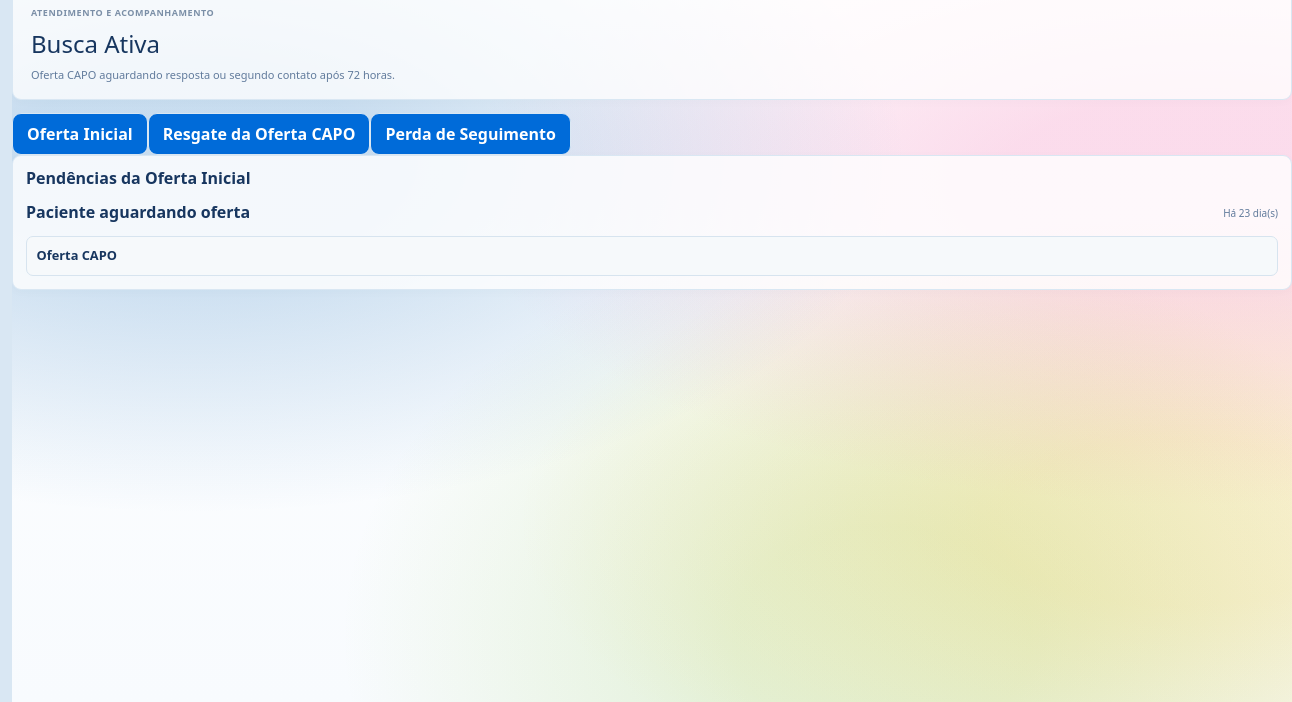
Test: após 72 horas, salvar sem_resposta transfere para Resgate por confirmação do banco
Click the button "Oferta CAPO": (77, 255) [26,236,1278,276]
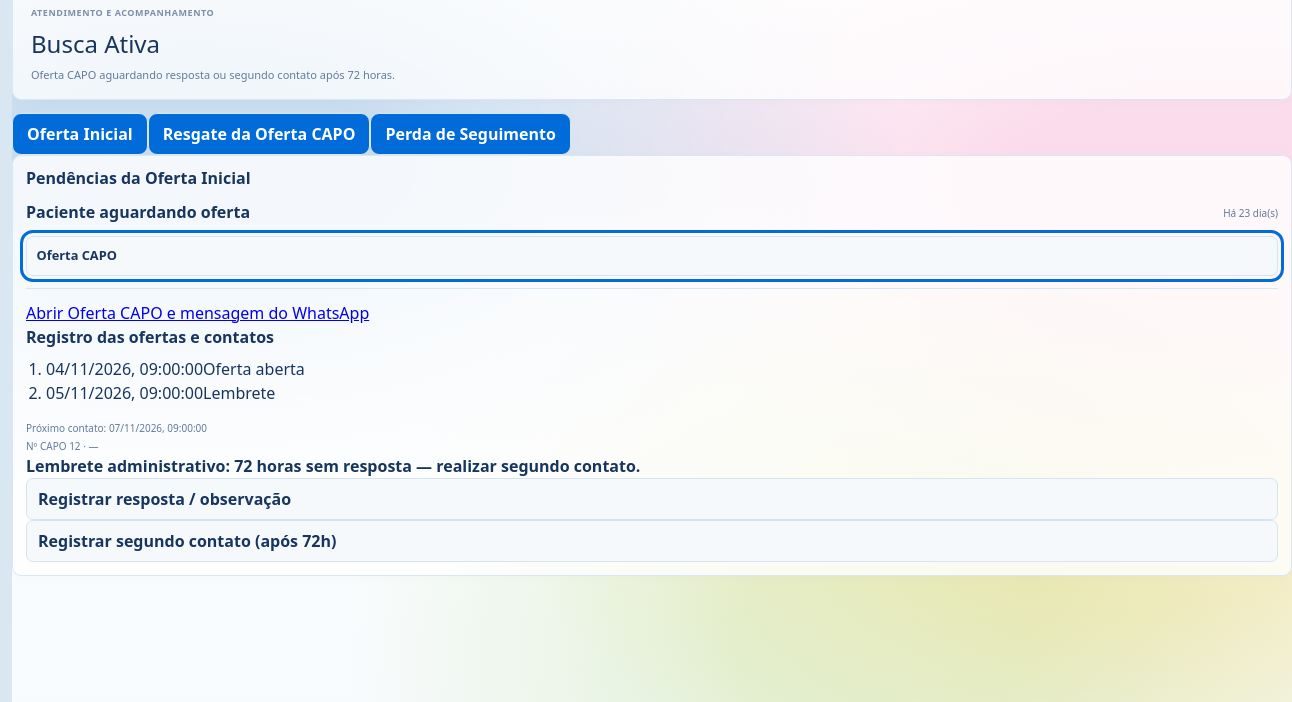
Click the button "Registrar resposta / observação": (165, 499) [26,478,1278,520]
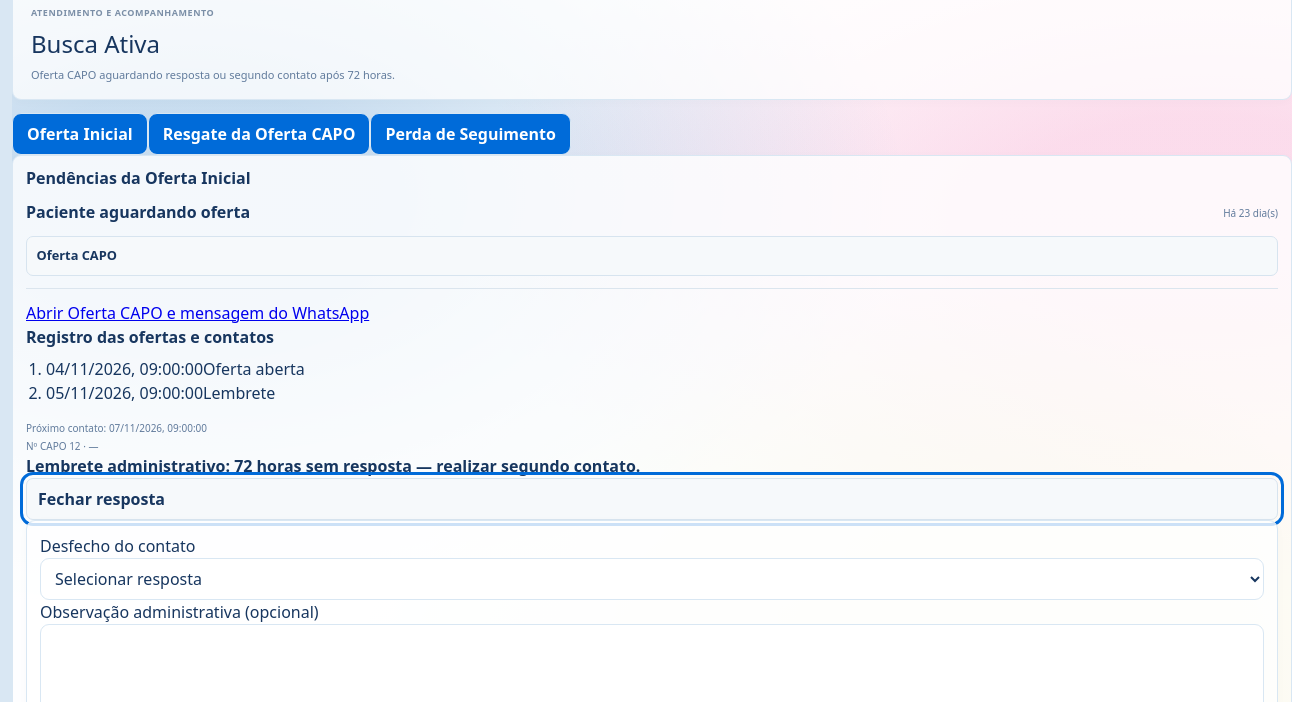
Select "Sem resposta / contato não conseguido" in the dropdown labelled "Desfecho do contato": (652, 579) [40,558,1264,600]
(page scrolled)
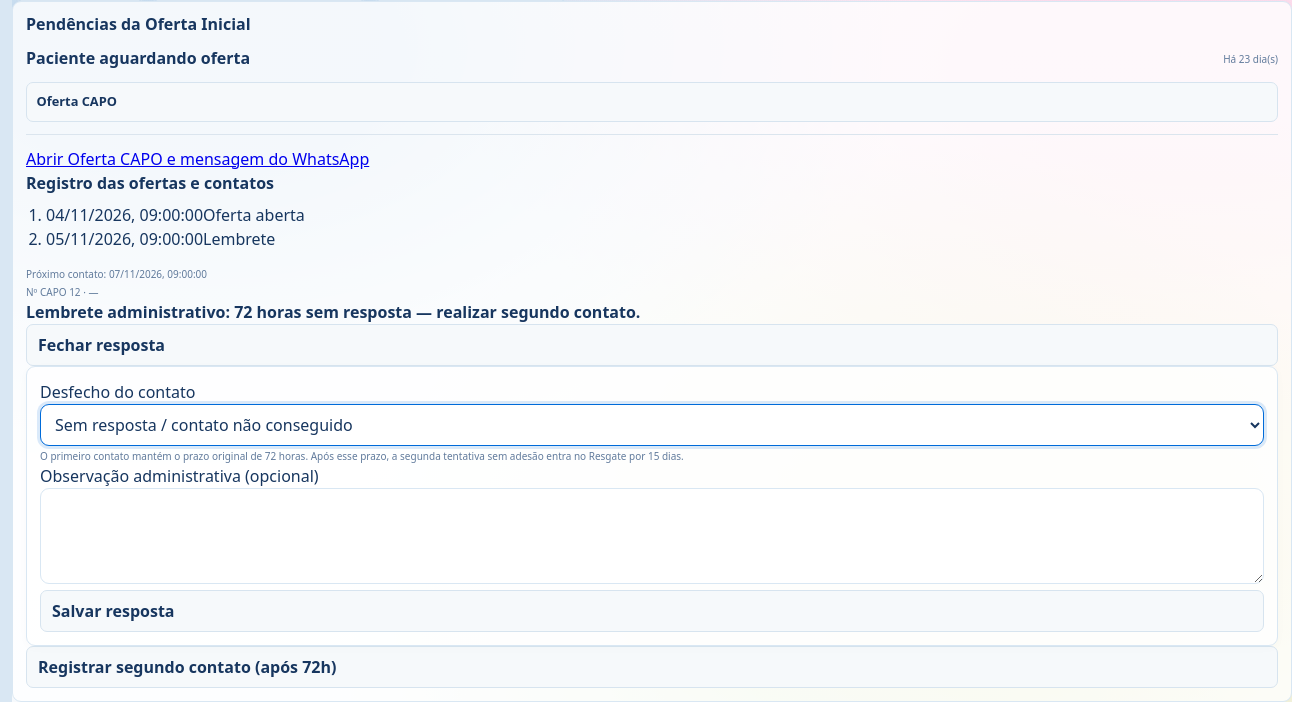
In the text box labelled "Observação administrativa (opcional)": (652, 536) [40,488,1264,584], type "Justificativa registrada"
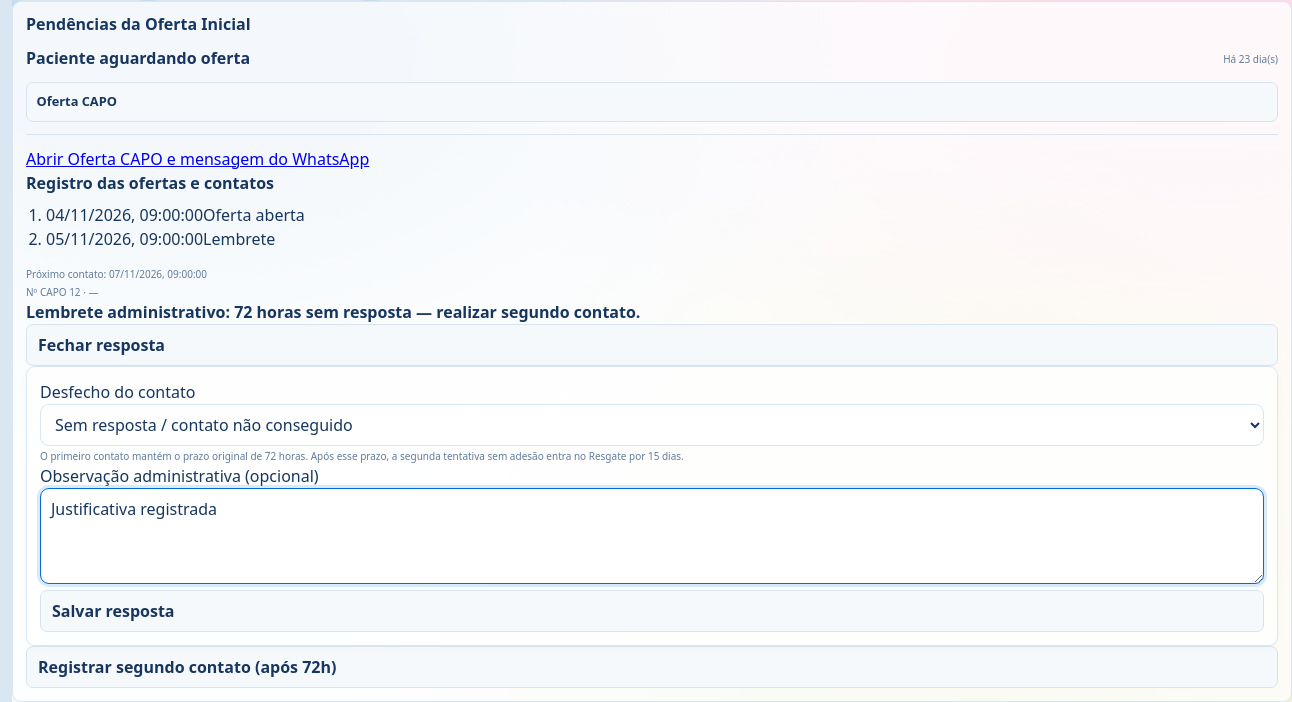
Click the button "Salvar resposta": (113, 611) [40,590,1264,632]
(page scrolled)
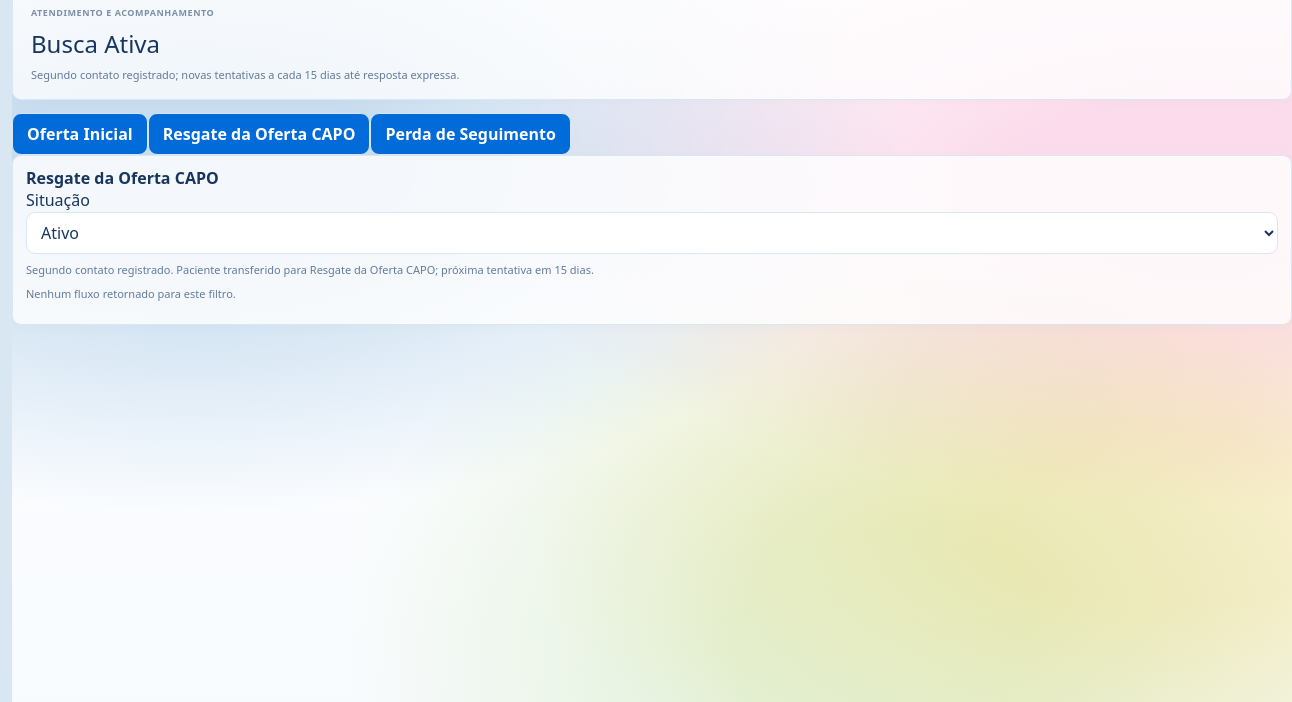
Check: the button "Resgate da Oferta CAPO" is pressed, box [148,112,370,154]
